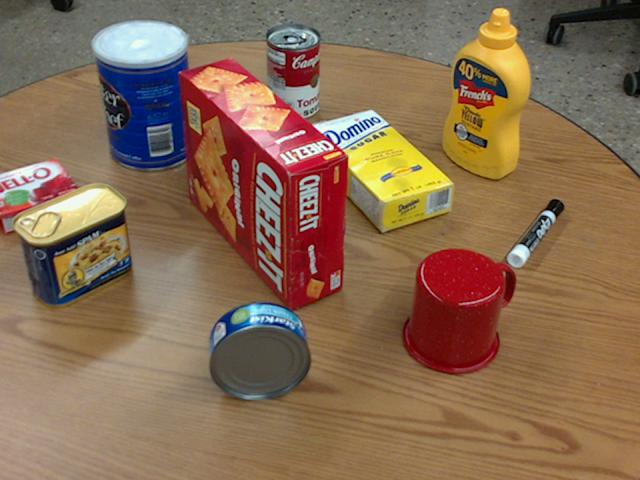cracker_box: (178, 58, 347, 308)
gelatin_box: (0, 157, 80, 230)
large_marker: (508, 199, 564, 267)
master_chef_can: (92, 20, 193, 170)
mug: (402, 247, 515, 373)
mustard_bottle: (443, 10, 530, 177)
potted_meat_can: (12, 181, 129, 305)
sugar_box: (308, 110, 453, 230)
tomato_soup_can: (265, 23, 320, 119)
tuna_fish_can: (209, 302, 312, 399)
